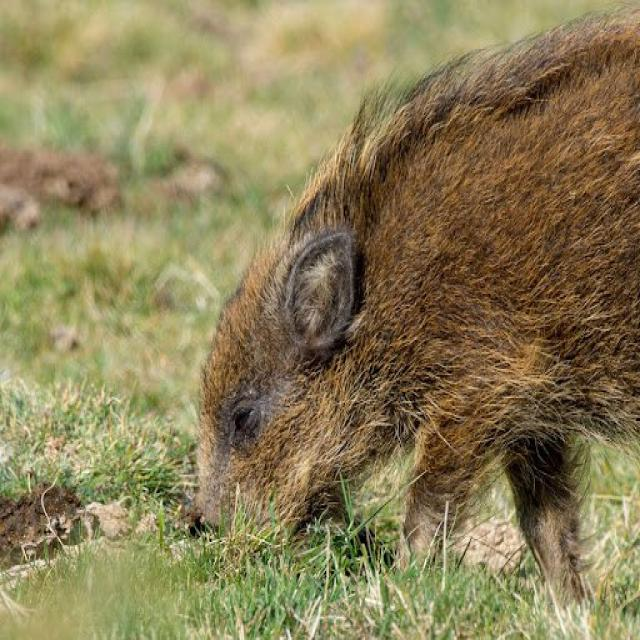Boar: (190, 29, 639, 640)
